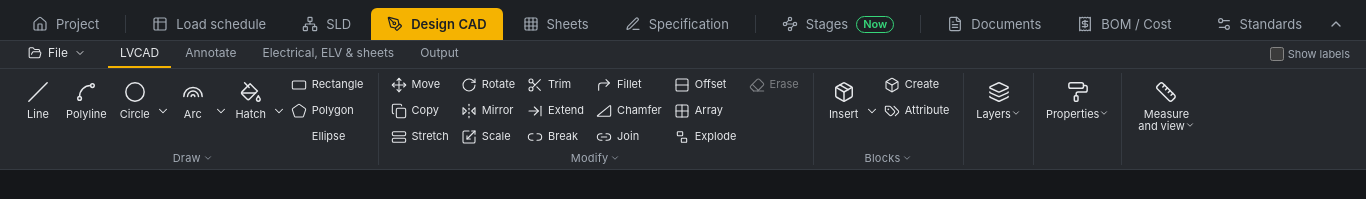
it: Design CAD ribbon: the main tools named, every tool's name on hover › shows a tool's name, command and what it does after a short rest, and hides it when the mouse leaves
This screenshot has width=1366, height=199.
Expected: the button "Line" is shown, [16, 73, 60, 149]
Hover over the button "Offset" at (706, 85), box [670, 73, 743, 97]
Wait 400 ms
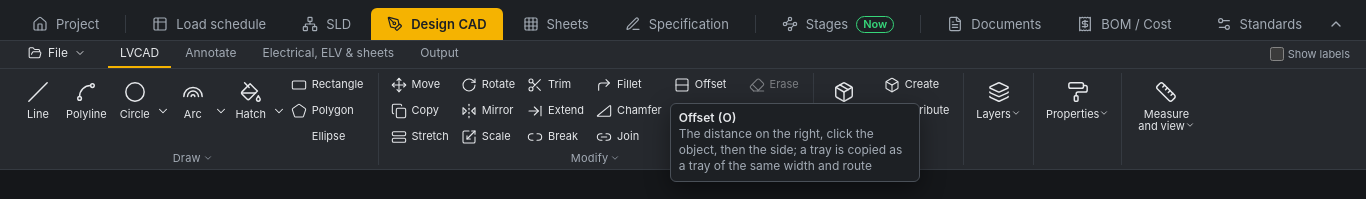
Expected: the text "Offset (O)" is shown, [679, 110, 736, 125]
Move the pointer off the button "Offset", box [670, 73, 743, 97]
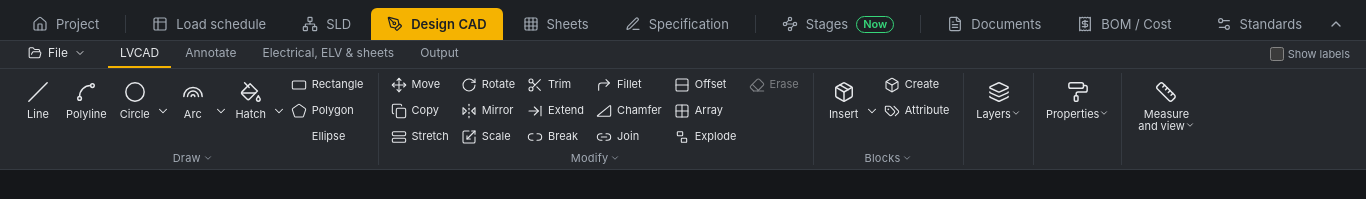
Expected: the tooltip with id "ribbon-tip" is gone
